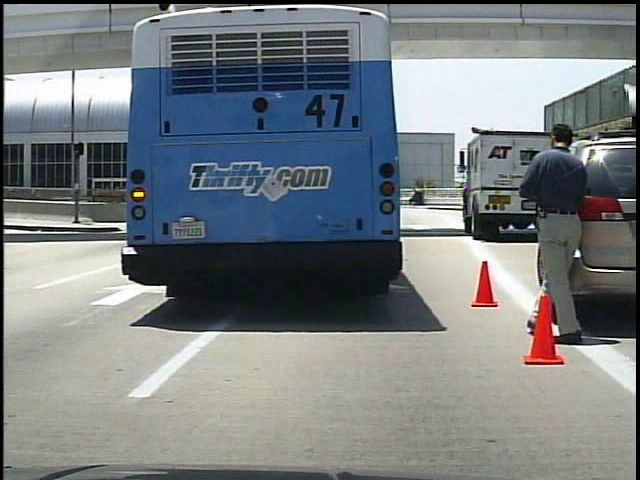person: (519, 116, 599, 346)
